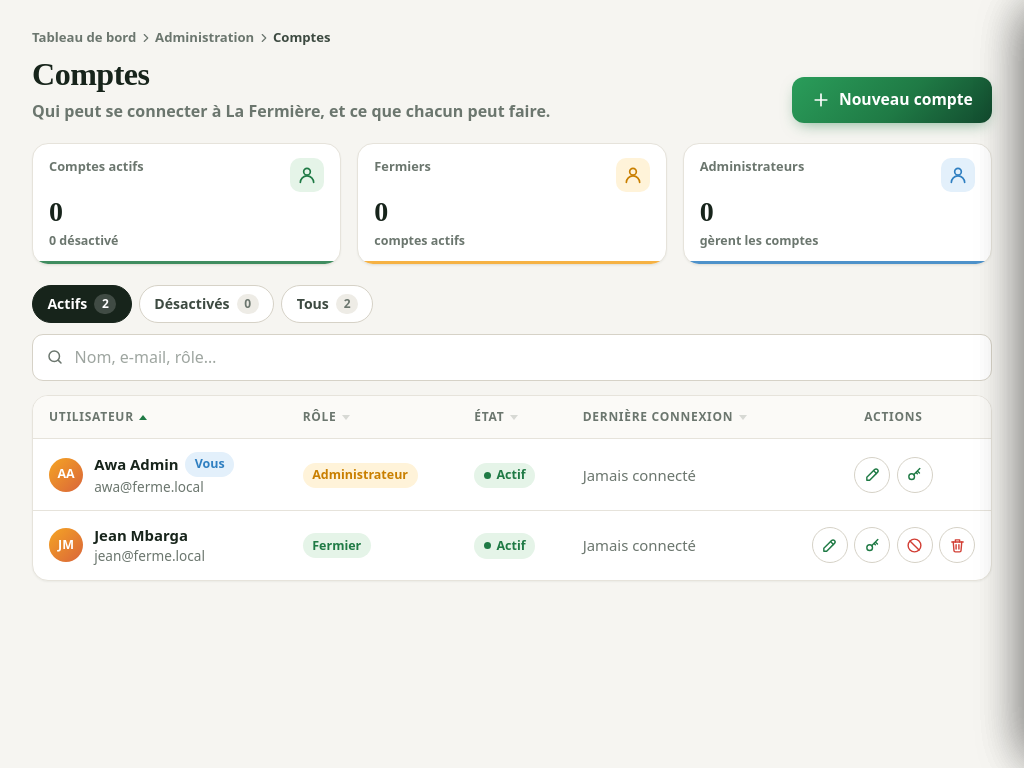
gestion des comptes › désactivation refusée par l’API : le message reste dans la pop-up
Click the button named "Désactiver".
click(915, 546)  # box x1=897 y1=528 x2=933 y2=564
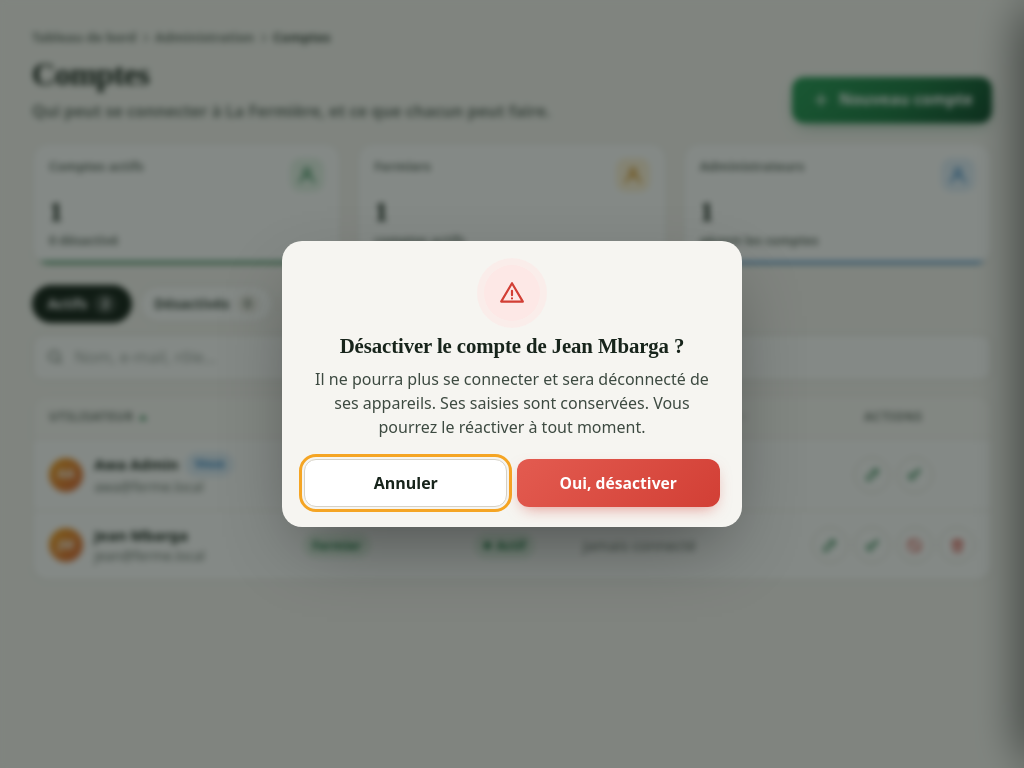
Click the button "Oui, désactiver".
click(618, 483)  # box x1=517 y1=459 x2=720 y2=507
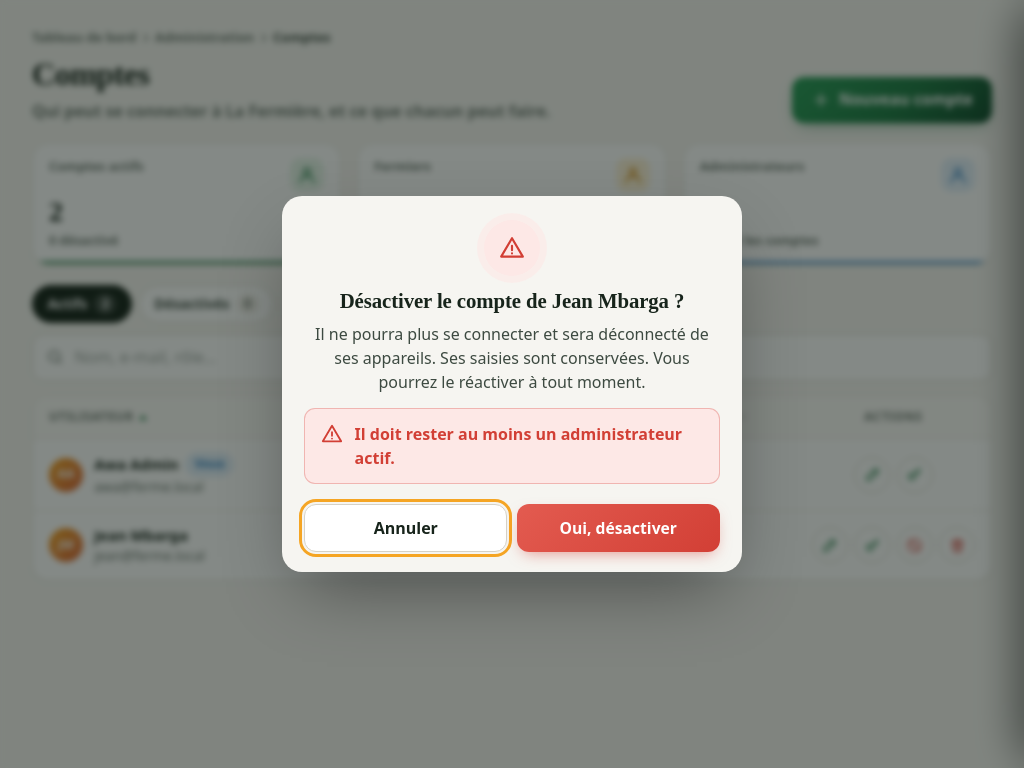
Expected: the text "Il doit rester au moins un administrateur actif." is shown, x1=355 y1=422 x2=703 y2=470
